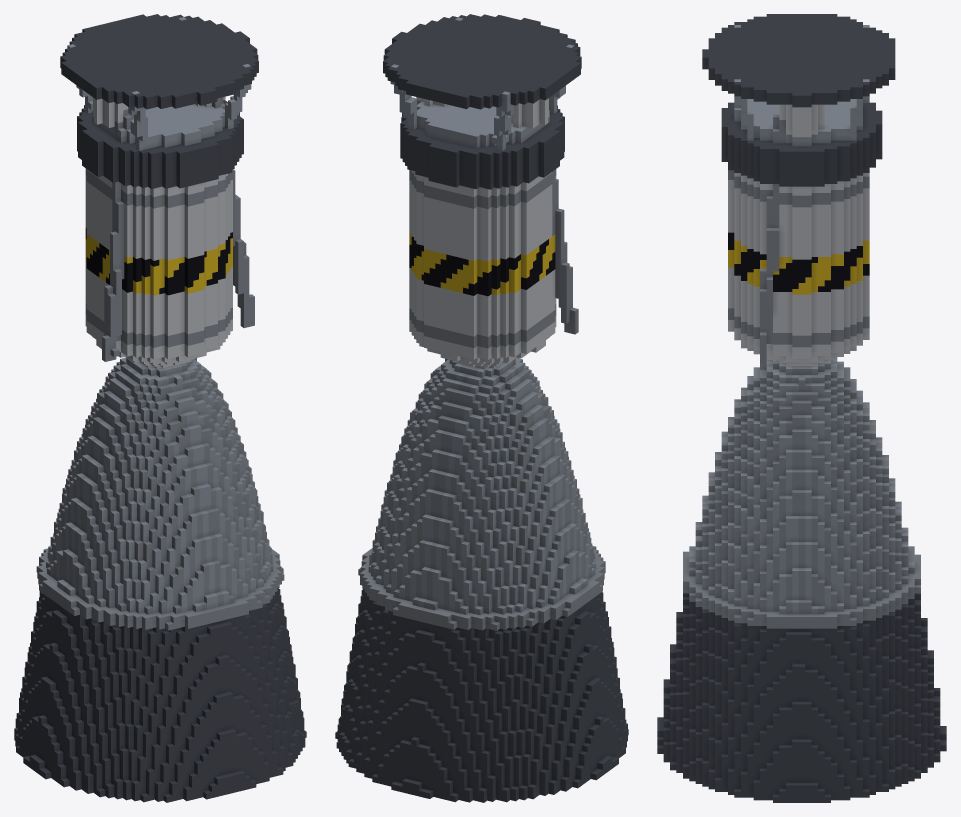
File: eng_ntr.glb
3 renders of one model, left to right at view 1: azimuth 30°, elevation 25°; view 2: azimuth 150°, elevation 25°; view 3: azimuth 270°, elevation 25°, orthographic.
Visible parts, largest first — view 1: eng_ntr; view 2: eng_ntr; view 3: eng_ntr.
Boxes of the visible parts, x1,y1,x2,y2 form: eng_ntr: (14, 14, 306, 802); eng_ntr: (335, 14, 628, 802); eng_ntr: (657, 14, 946, 802).
Bounding box in the file's own units: 2.25 × 5.9 × 2.25.
